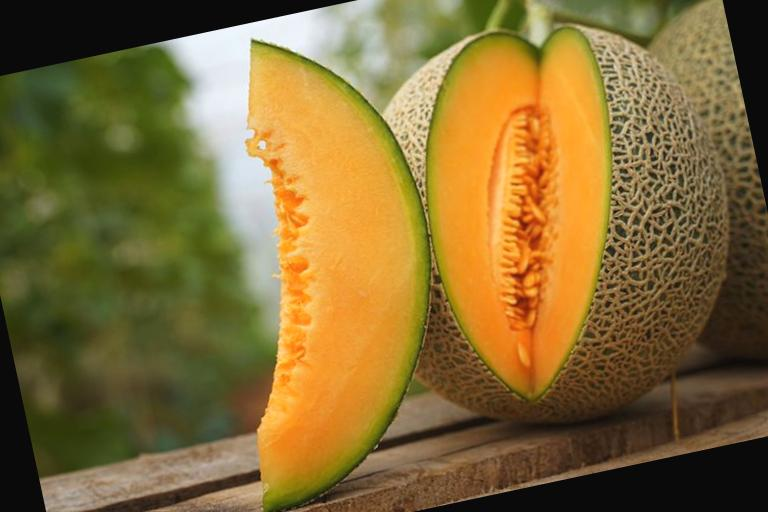Mango Ripe: (390, 0, 767, 442), (163, 9, 479, 512)
